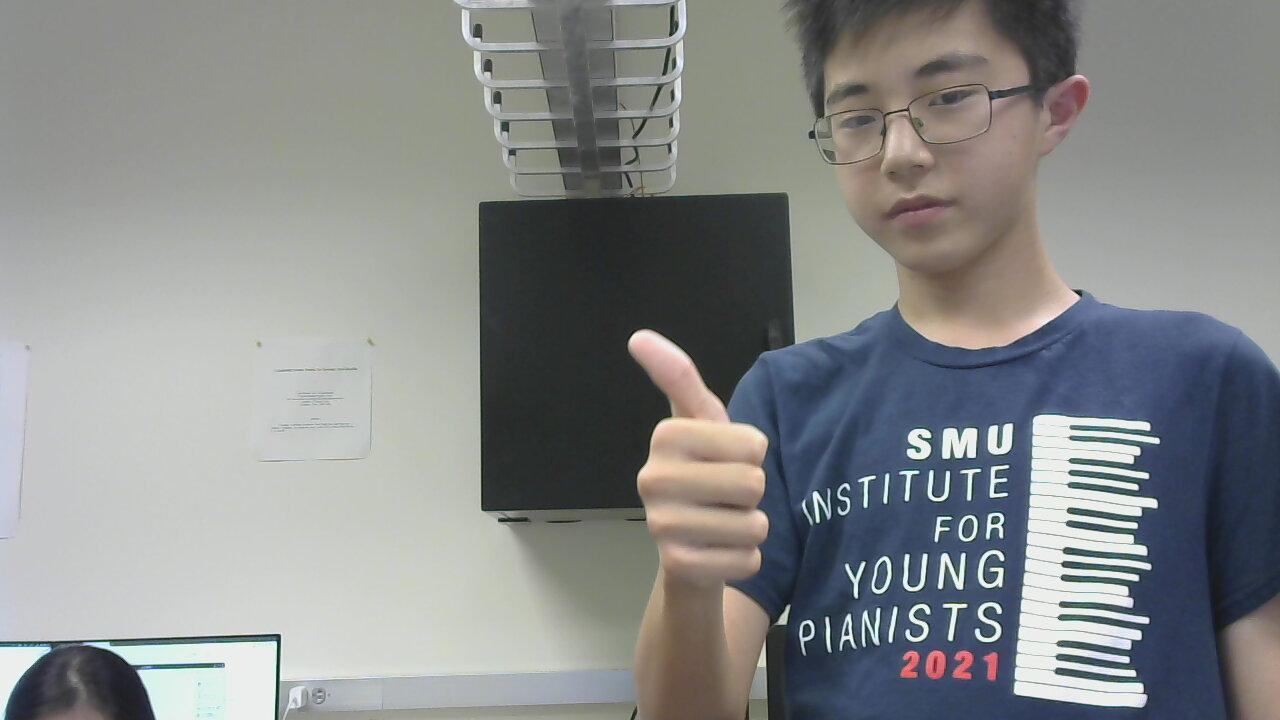hands: (616, 299, 775, 595)
